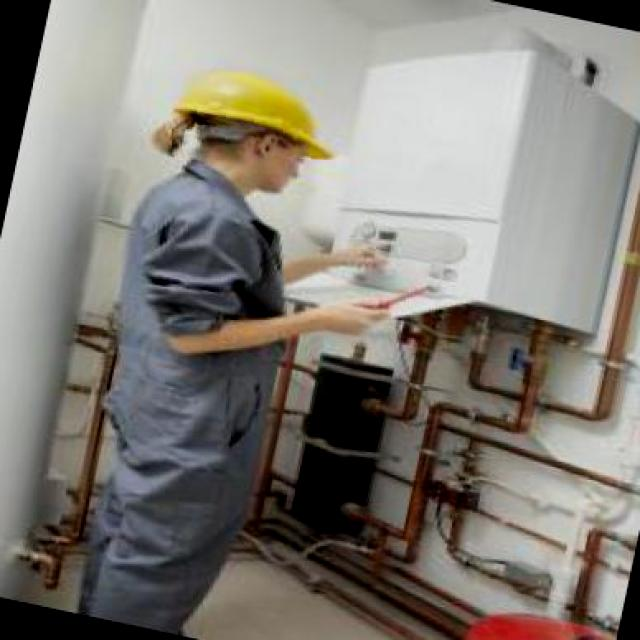helmet: (173, 68, 337, 160)
